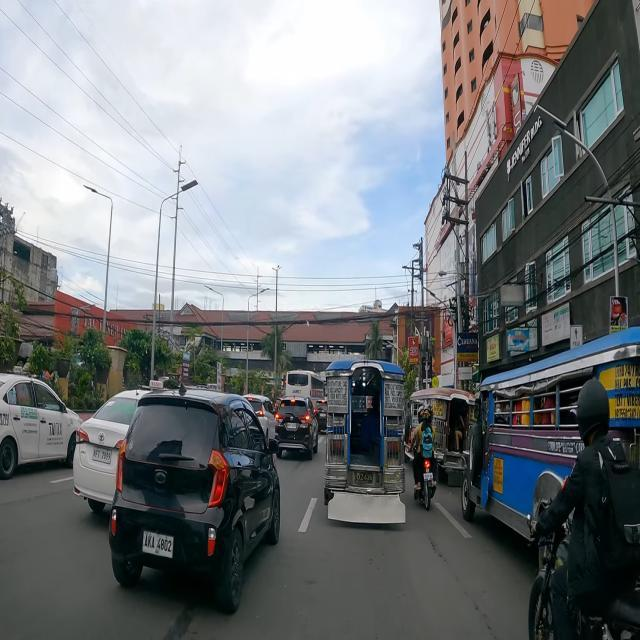bus: (285, 370, 325, 410)
car: (106, 389, 282, 613), (73, 380, 169, 518), (0, 366, 84, 484), (274, 395, 320, 462)
jeepney: (461, 324, 640, 610), (323, 361, 407, 524), (406, 386, 476, 492)
motorcycle: (528, 375, 640, 639), (407, 406, 437, 510)
